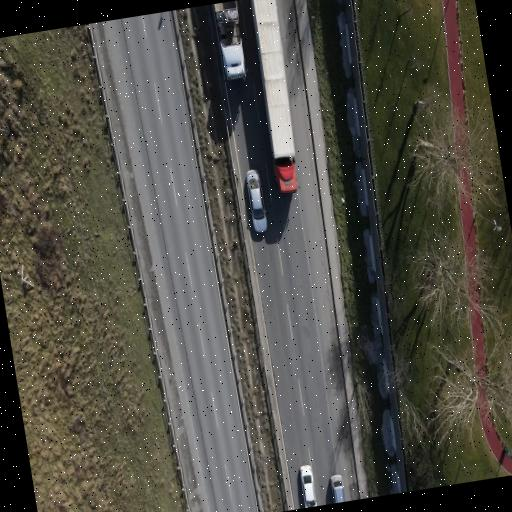UAI: (251, 0, 297, 191), (214, 1, 246, 78)
harvester: (247, 169, 267, 231), (300, 464, 316, 507), (331, 474, 345, 502)
